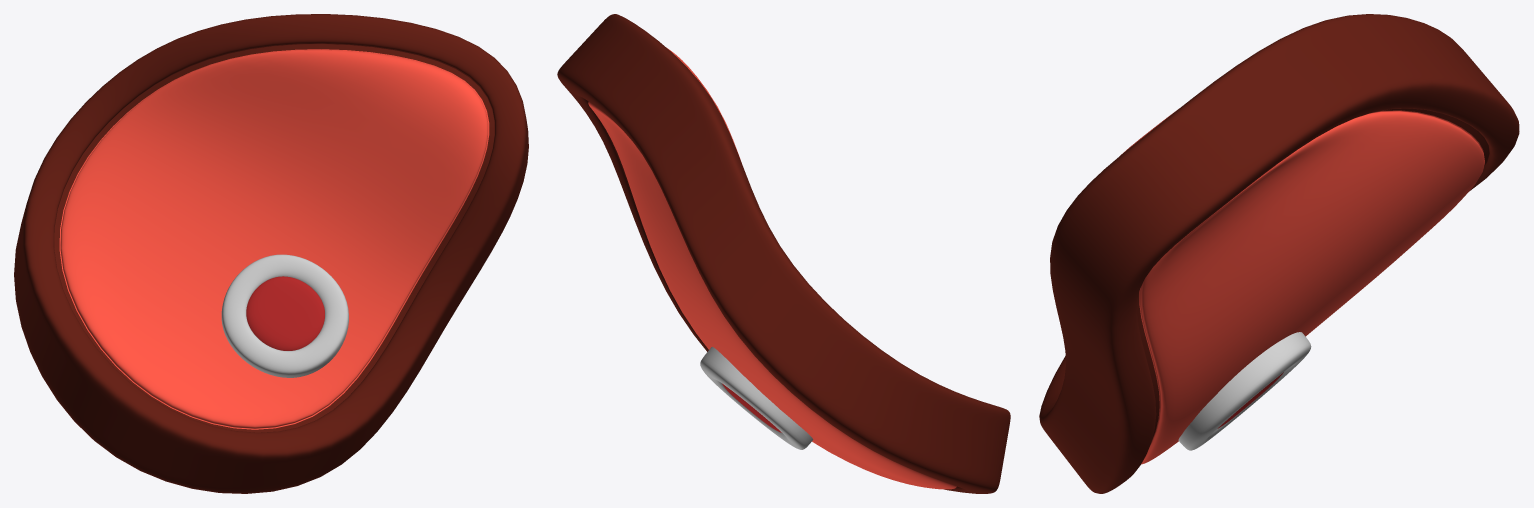
The model's file is meat.fbx.
3 views of the same model, side by side, from view 1: azimuth 30°, elevation 25°; view 2: azimuth 150°, elevation 25°; view 3: azimuth 270°, elevation 25° (orthographic). The views are drawn at different scales.
Parts seen in each view (by area): view 1: 肉; view 2: 肉; view 3: 肉.
Part boxes in pixels (bbox=[...]): 肉: bbox=[14, 14, 528, 493]; 肉: bbox=[557, 14, 1010, 493]; 肉: bbox=[1039, 14, 1519, 493].
Bounding box in the file's own units: 840 × 750 × 644.
